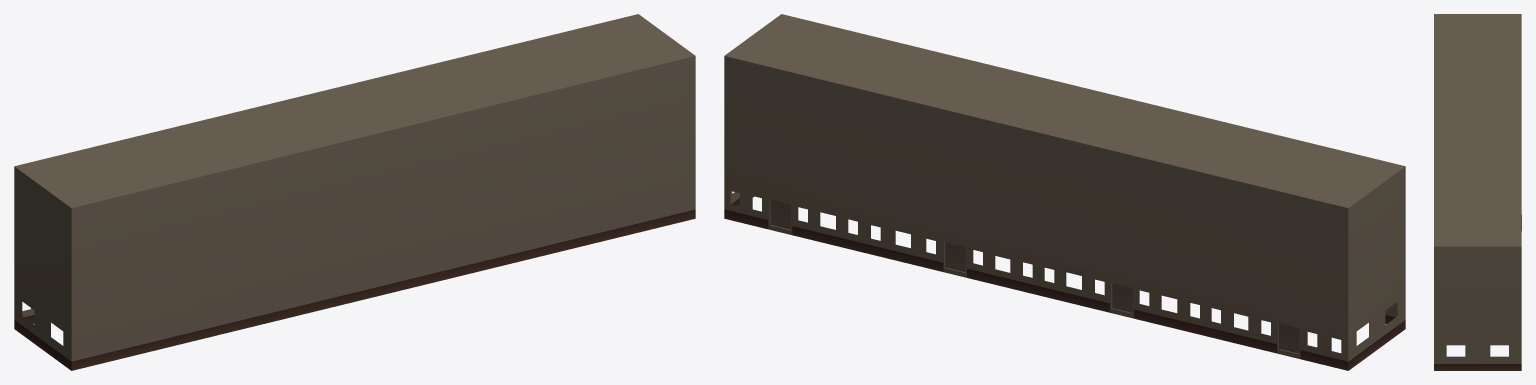
Rendered from Old Fasad.fbx.
3 renders of one model, left to right at view 1: azimuth 30°, elevation 25°; view 2: azimuth 150°, elevation 25°; view 3: azimuth 270°, elevation 25°, orthographic. The views are drawn at different scales.
Parts seen in each view (by area): view 1: Old Fasad; view 2: Old Fasad; view 3: Old Fasad.
Boxes of the visible parts, left/top/right/bottom form: Old Fasad: left=14, top=14, right=695, bottom=370; Old Fasad: left=724, top=14, right=1405, bottom=370; Old Fasad: left=1434, top=14, right=1521, bottom=370.
Size of the model in its own units: 154 by 24.55 by 38.34.
